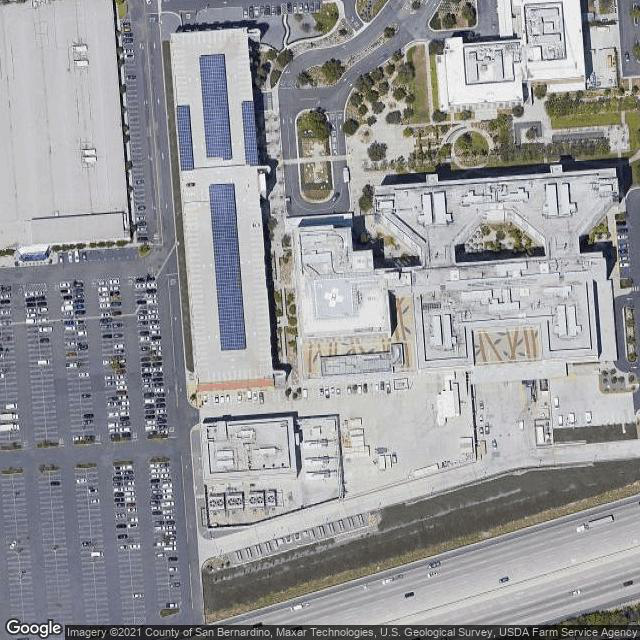Helipad: (315, 278, 354, 319)
